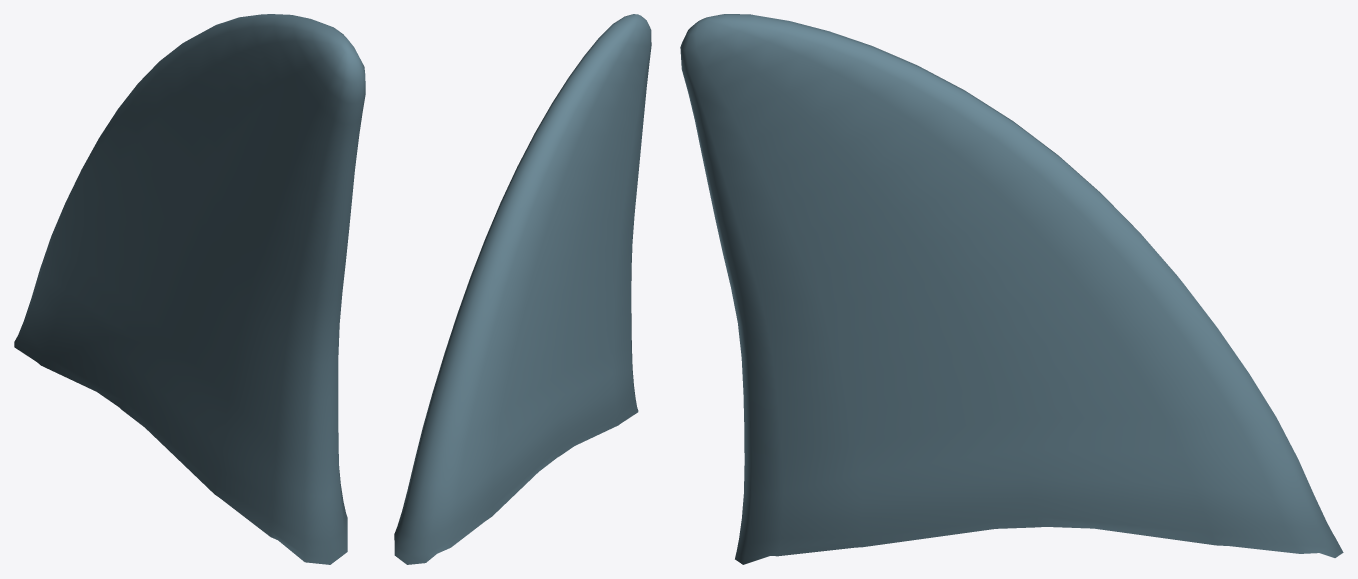
File: Cosmetic_Shark_Fin.glb
3 views of the same model, side by side, from view 1: azimuth 30°, elevation 25°; view 2: azimuth 150°, elevation 25°; view 3: azimuth 270°, elevation 25° (orthographic). The views are drawn at different scales.
Visible parts, largest first — view 1: Cosmetic_Shark_Fin; view 2: Cosmetic_Shark_Fin; view 3: Cosmetic_Shark_Fin.
Boxes of the visible parts, x1,y1,x2,y2 form: Cosmetic_Shark_Fin: (14, 14, 365, 564); Cosmetic_Shark_Fin: (394, 14, 651, 564); Cosmetic_Shark_Fin: (680, 14, 1343, 564).
Size of the model in its own units: 0.098 by 0.4209 by 0.4659.
